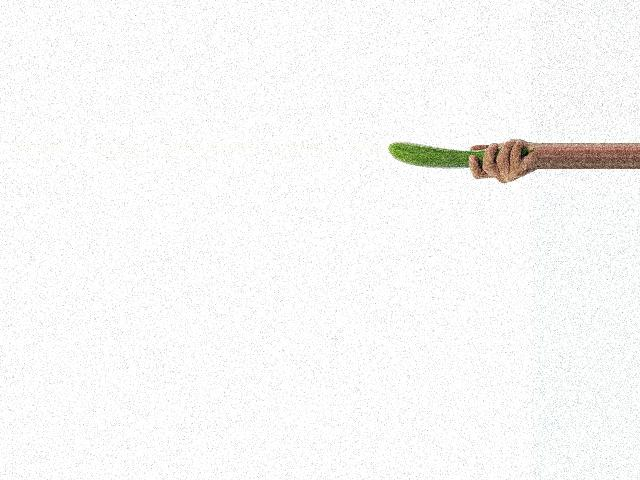cucumber: (387, 141, 533, 168)
